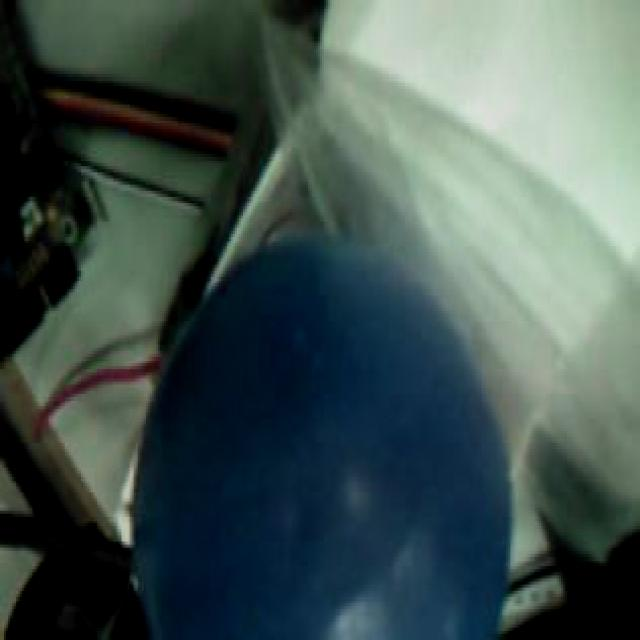BallPurple: (134, 237, 508, 640)
